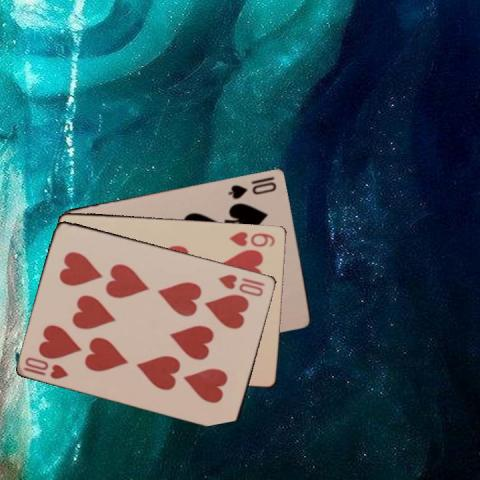10h: (215, 271, 267, 298), (21, 353, 70, 381)
10s: (226, 179, 278, 200)
6h: (226, 228, 276, 248)
